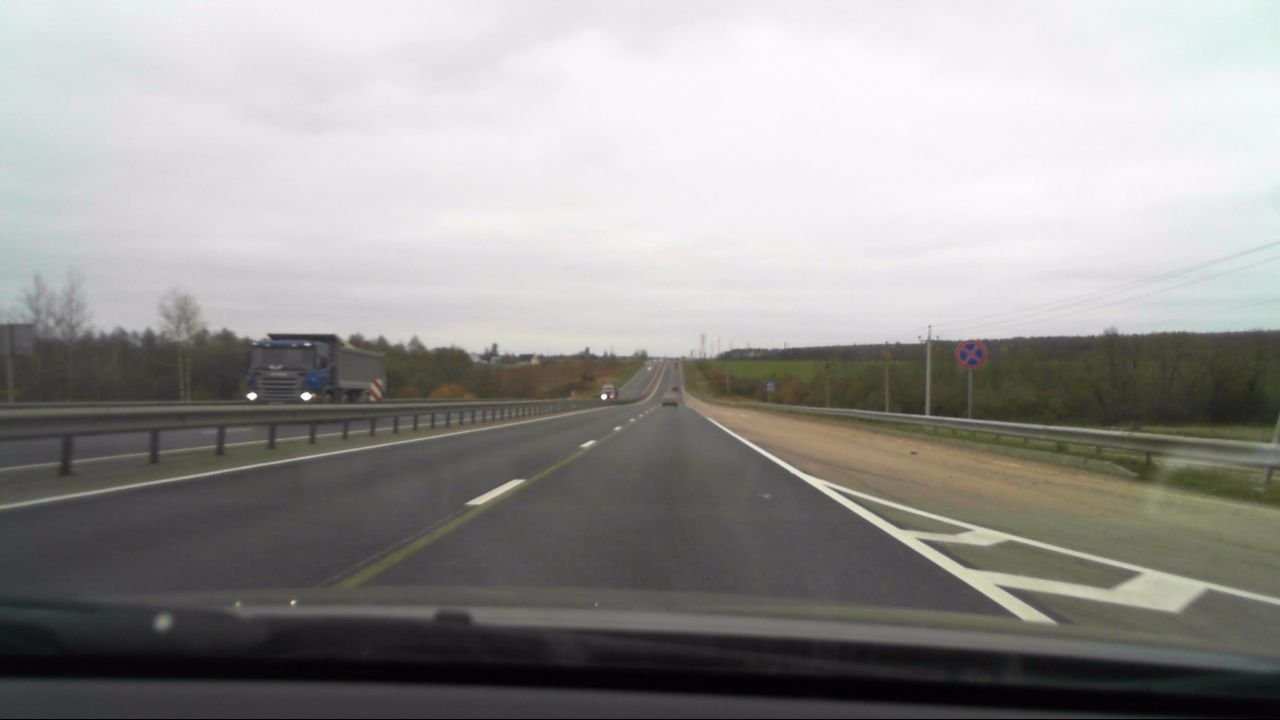No Parking: (958, 342, 985, 367)
